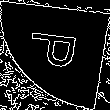P_E: (24, 33, 86, 77)
